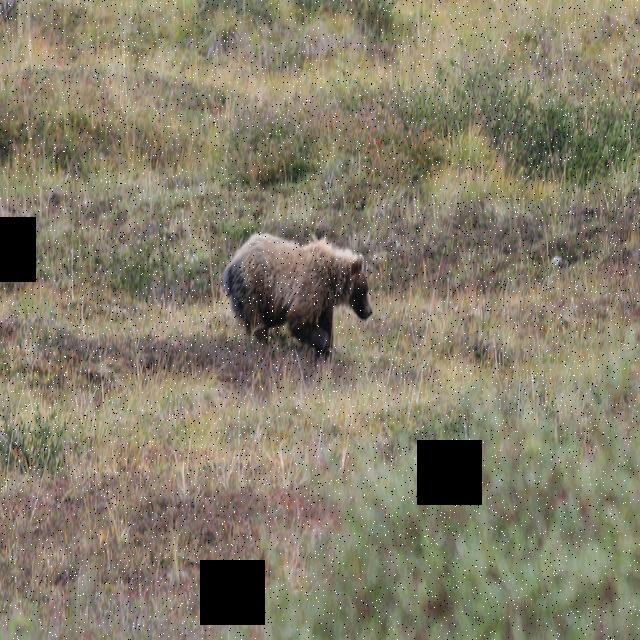Bear: (222, 215, 370, 352)
